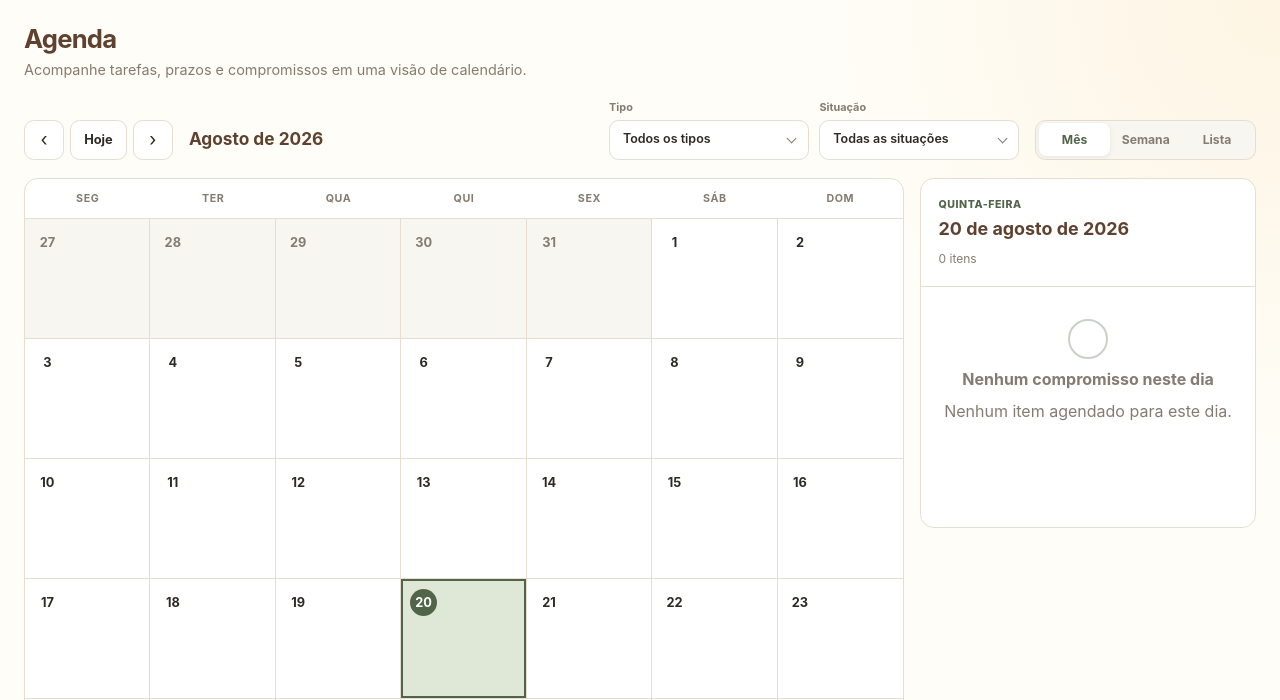
Test case: AgendaPage › navega para o mes anterior e recarrega agenda
The image size is (1280, 700).
Click the button with test id "agenda-previous-month" at (44,140), box [24, 120, 64, 160]
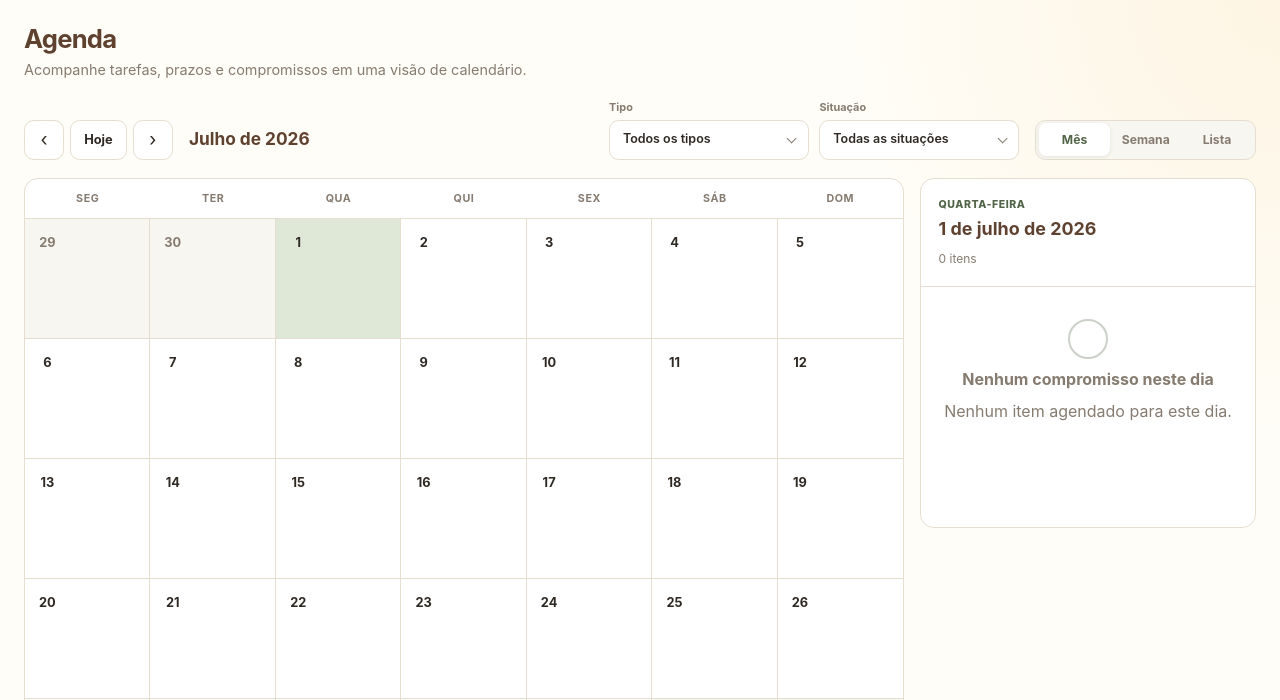
Check: the text "Julho de 2026" is shown, box [189, 129, 310, 150]
